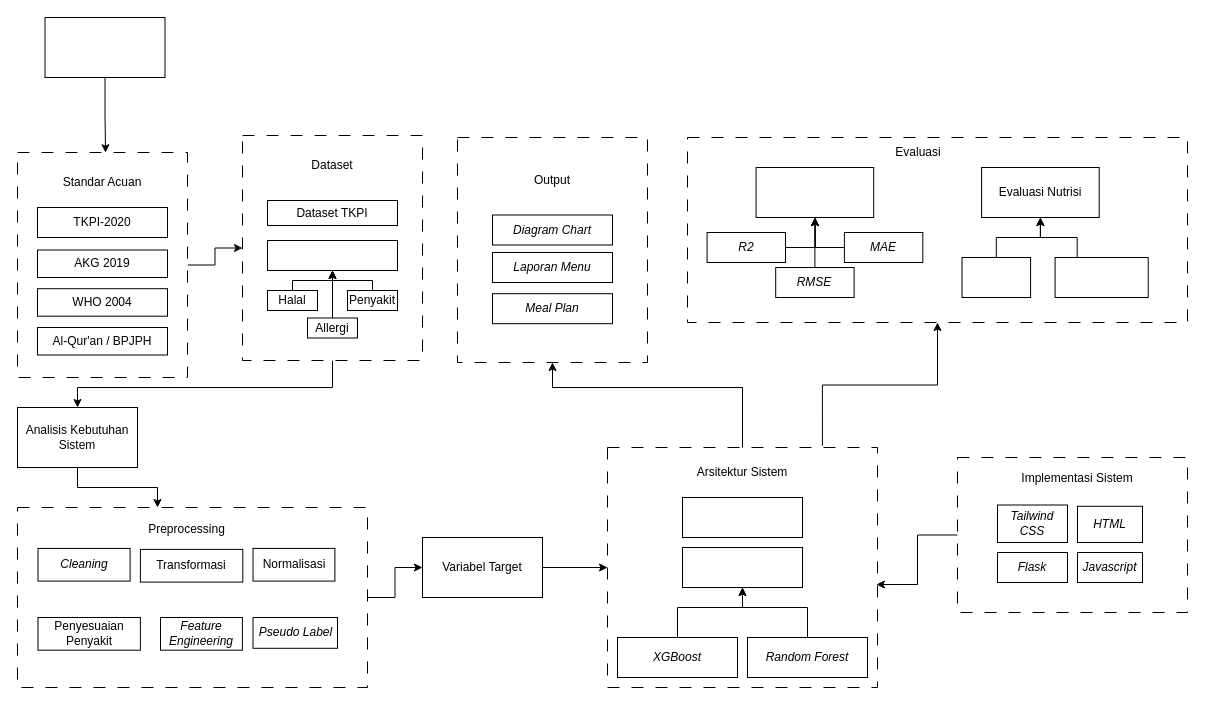
This 1205x705 diagram has some shape labels left out. Each missing label, with the centre of its shape:
"Calorie Gap" belongs at [996,277].
"Ensemble Learning" belongs at [742,567].
"Evaluasi Machine Learning" belongs at [814,192].
"Manual Labeling" belongs at [332,255].
"NAR / MAR" belongs at [1101,277].
"Rule Based Filtering" belongs at [742,517].
"Studi Literatur" belongs at [104,47].
